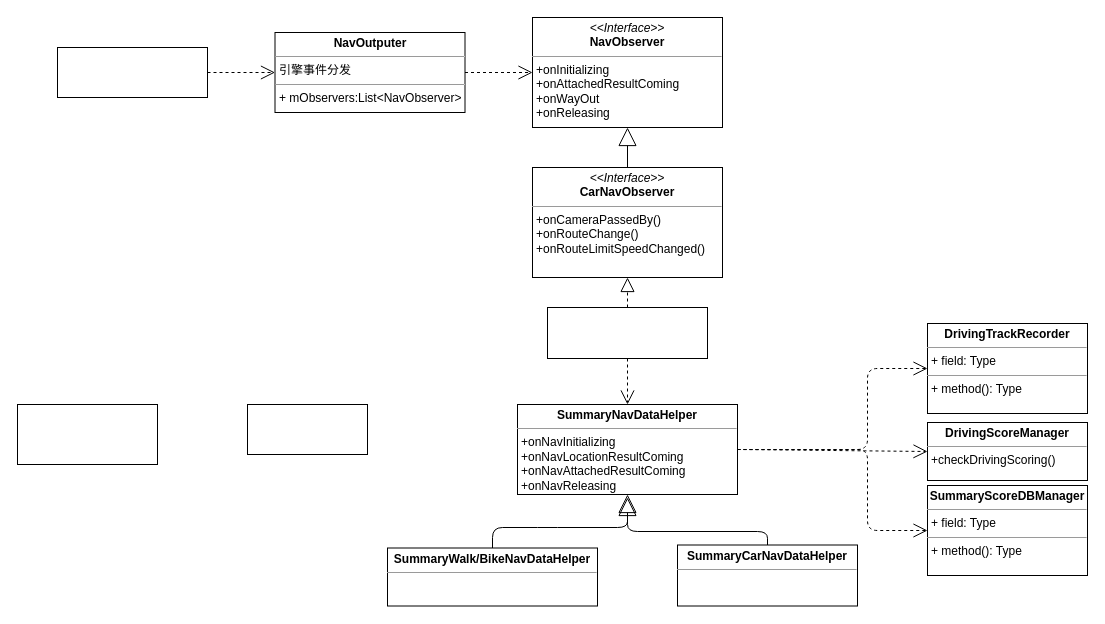
This 1105x624 diagram has some shape labels left out. Here are the shapes that lost their labels. From the top down, the box of each, then its label:
(56, 46, 208, 98): CarWalk/BikeNavEngine 导航引擎
(546, 306, 708, 358): SummaryObserver 小结页观察者
(16, 404, 158, 464): HippyActivity
(246, 404, 368, 454): BusinessUtils + gotoSummary()
